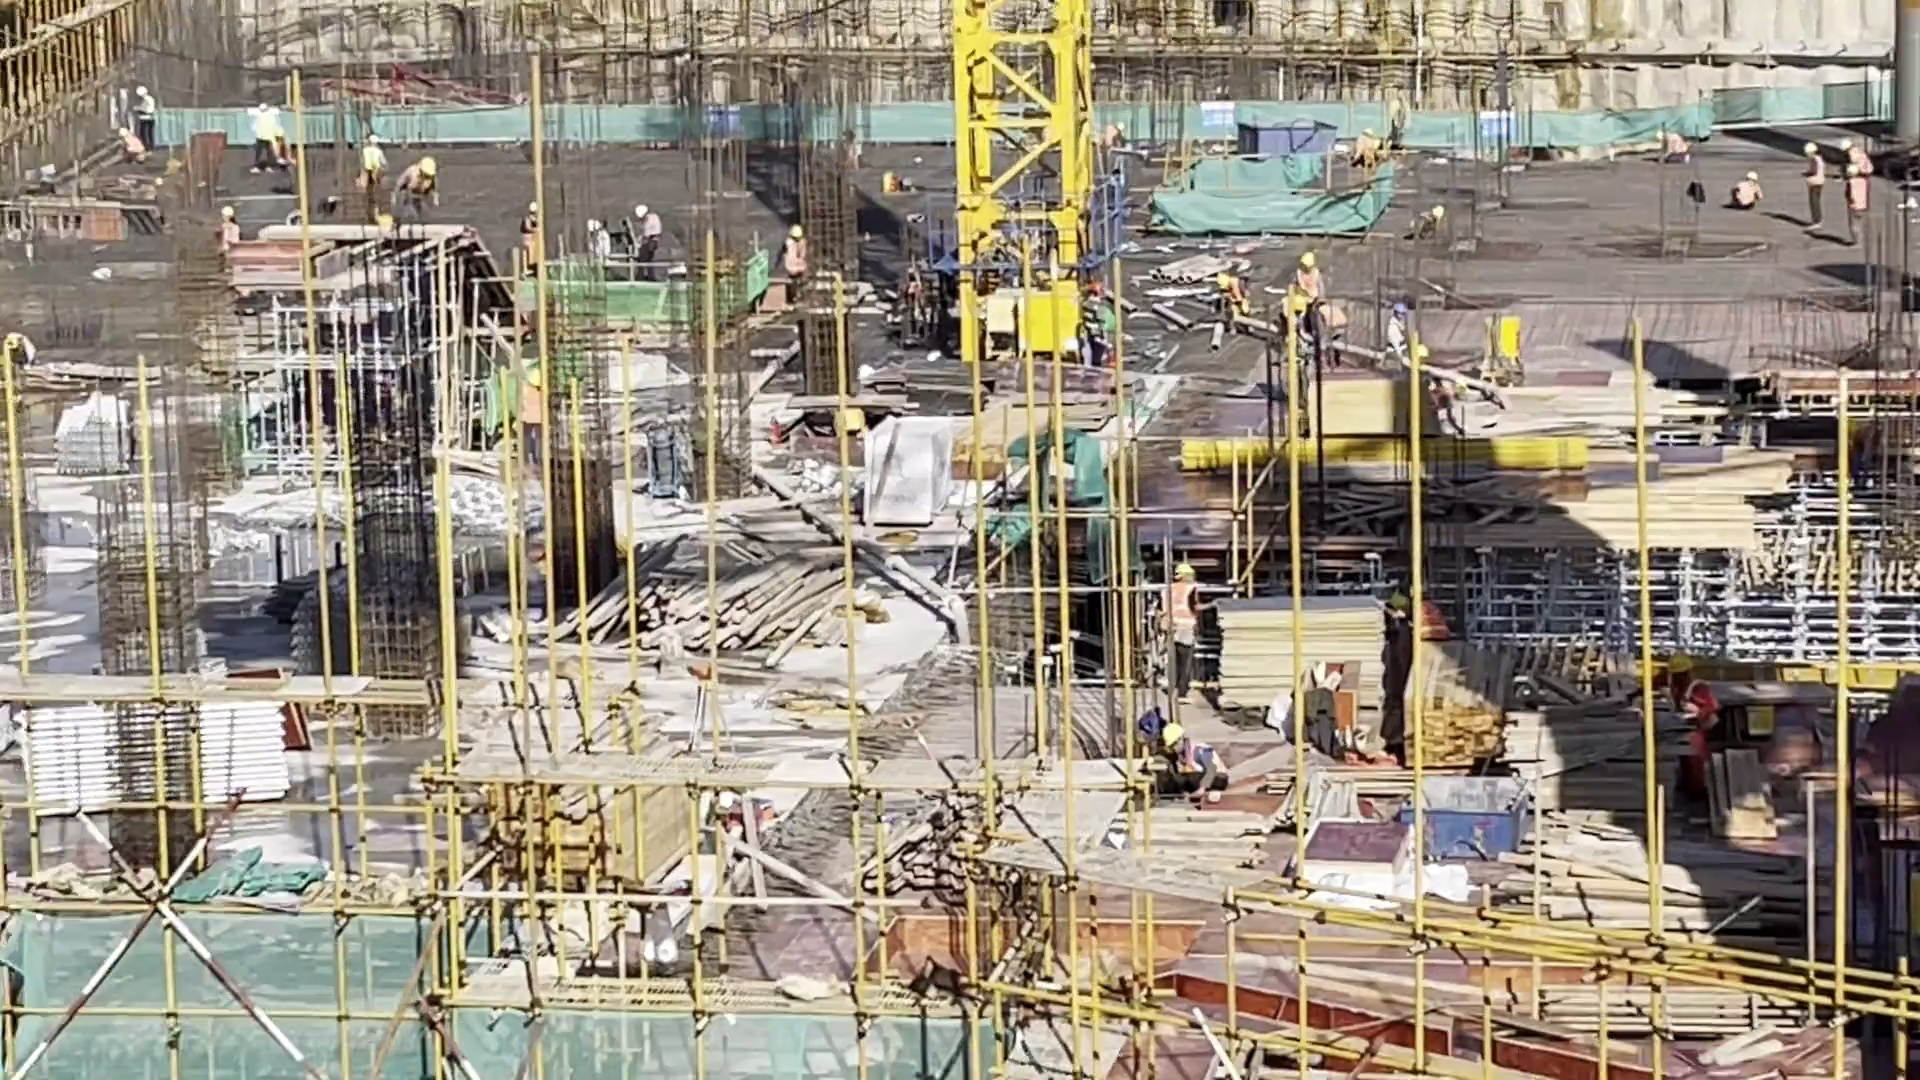board: (1201, 586, 1369, 699), (1305, 380, 1459, 449)
cutter: (791, 379, 924, 461)
ebox: (1021, 294, 1111, 356), (1476, 309, 1521, 376)
helmet: (1656, 654, 1697, 671), (1167, 717, 1184, 754), (1176, 563, 1199, 588), (411, 156, 440, 170), (1405, 581, 1427, 599), (6, 329, 22, 349), (524, 371, 544, 387), (1389, 300, 1404, 321), (1430, 204, 1446, 219), (1306, 251, 1319, 265), (1419, 344, 1431, 360), (1311, 300, 1326, 313), (789, 225, 802, 239), (586, 221, 599, 235), (1846, 166, 1860, 178), (531, 202, 544, 214), (221, 204, 233, 218), (136, 81, 148, 94), (119, 127, 132, 139), (1839, 135, 1849, 150), (1286, 299, 1301, 309), (1219, 275, 1230, 287), (275, 127, 284, 143), (636, 204, 649, 214), (1654, 130, 1664, 141), (1805, 141, 1815, 153), (1366, 127, 1379, 134), (372, 142, 381, 151), (259, 108, 269, 116), (1117, 119, 1126, 127), (1745, 176, 1759, 180)
hopper: (1406, 771, 1541, 862), (1239, 112, 1339, 162)
person: (1662, 652, 1720, 793), (1153, 565, 1211, 697), (1410, 338, 1472, 435), (1396, 581, 1465, 665), (1161, 718, 1230, 796), (386, 152, 446, 218), (1795, 133, 1832, 238), (625, 198, 667, 288), (522, 361, 552, 462), (524, 203, 564, 275), (776, 225, 808, 308), (1837, 133, 1887, 186), (584, 209, 614, 293), (1843, 167, 1873, 251), (351, 121, 385, 191), (133, 78, 168, 142), (251, 102, 278, 177), (1354, 125, 1385, 193), (1652, 127, 1698, 170), (1092, 121, 1134, 167), (1276, 291, 1303, 362), (1215, 265, 1251, 315), (1319, 300, 1345, 362), (269, 120, 306, 164), (1, 331, 45, 366), (212, 205, 238, 265), (1415, 201, 1448, 242), (1732, 166, 1760, 210), (1382, 296, 1406, 348), (1299, 252, 1328, 291), (118, 127, 143, 164)
scaffold: (66, 401, 139, 492)
vest: (1671, 679, 1721, 748), (1174, 742, 1226, 777), (1416, 603, 1455, 641), (1168, 583, 1195, 636), (397, 172, 436, 198), (519, 217, 546, 257), (1426, 370, 1450, 410), (521, 391, 544, 428), (644, 217, 667, 251), (7, 336, 34, 364), (589, 233, 609, 270), (358, 148, 382, 176), (1386, 311, 1409, 340), (1324, 304, 1345, 334), (1846, 181, 1867, 210), (787, 244, 806, 277), (1301, 268, 1320, 301), (1849, 148, 1871, 174), (219, 220, 239, 249), (1283, 292, 1299, 327), (1732, 182, 1758, 203), (1412, 214, 1444, 231), (276, 135, 294, 161), (1106, 134, 1126, 158), (1224, 280, 1242, 304), (1806, 157, 1823, 185), (254, 117, 272, 142), (1667, 134, 1687, 156), (124, 131, 142, 153), (1364, 142, 1375, 174), (140, 96, 155, 118)
wood: (1499, 817, 1814, 931), (549, 767, 789, 909), (1519, 676, 1674, 841), (649, 572, 834, 667), (1401, 642, 1529, 771)
